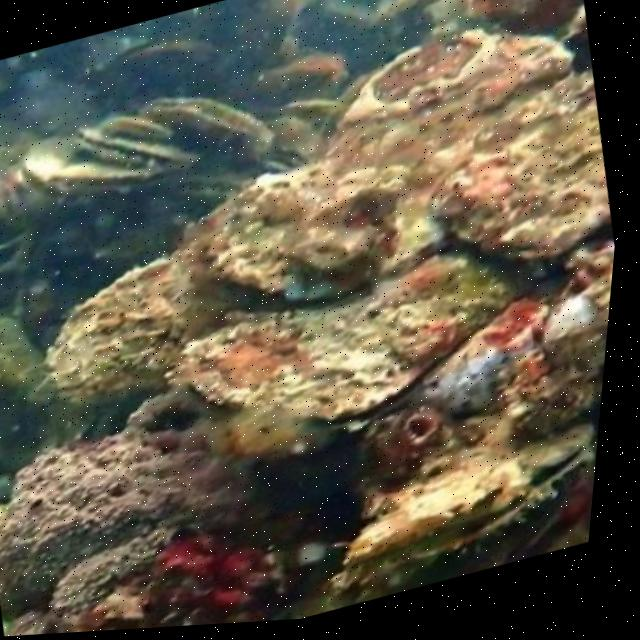Oyster-Closed: (185, 249, 554, 436), (343, 420, 598, 582), (23, 128, 192, 209), (143, 93, 274, 165), (63, 120, 198, 171), (167, 173, 255, 204), (0, 178, 35, 232)
Oyster-Indeterminate: (44, 247, 288, 405), (187, 152, 451, 297), (325, 29, 581, 159), (435, 77, 609, 255), (502, 270, 613, 434), (204, 0, 294, 69), (102, 37, 225, 83), (0, 113, 40, 174)
Oyster-Open: (470, 0, 569, 27)
